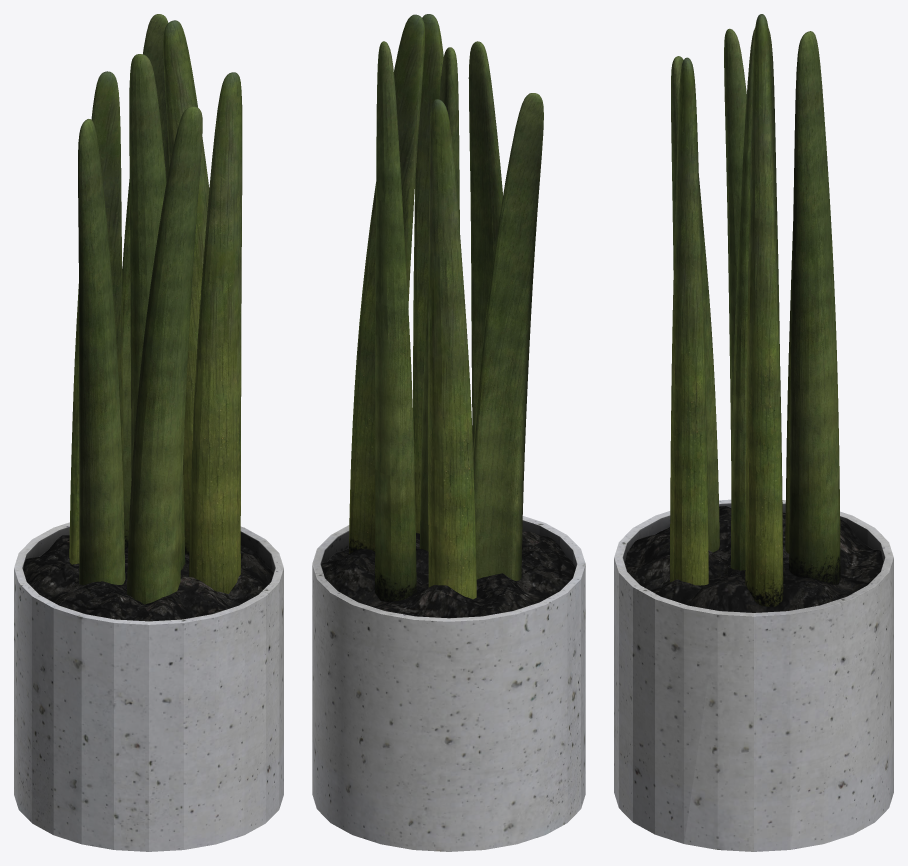
The model's file is jpg_sans_op_col_exp_7.DAE.
3 renders of one model, left to right at view 1: azimuth 30°, elevation 25°; view 2: azimuth 150°, elevation 25°; view 3: azimuth 270°, elevation 25°, orthographic. The views are drawn at different scales.
Parts seen in each view (by area): view 1: Sansewieria; view 2: Sansewieria; view 3: Sansewieria.
Part boxes in pixels (x1,y1,x2,y2): Sansewieria: [14, 14, 283, 851]; Sansewieria: [312, 14, 585, 851]; Sansewieria: [614, 14, 893, 851].
Bounding box in the file's own units: 0.1391 × 0.1391 × 0.4348.
1 material, 1 textured.
